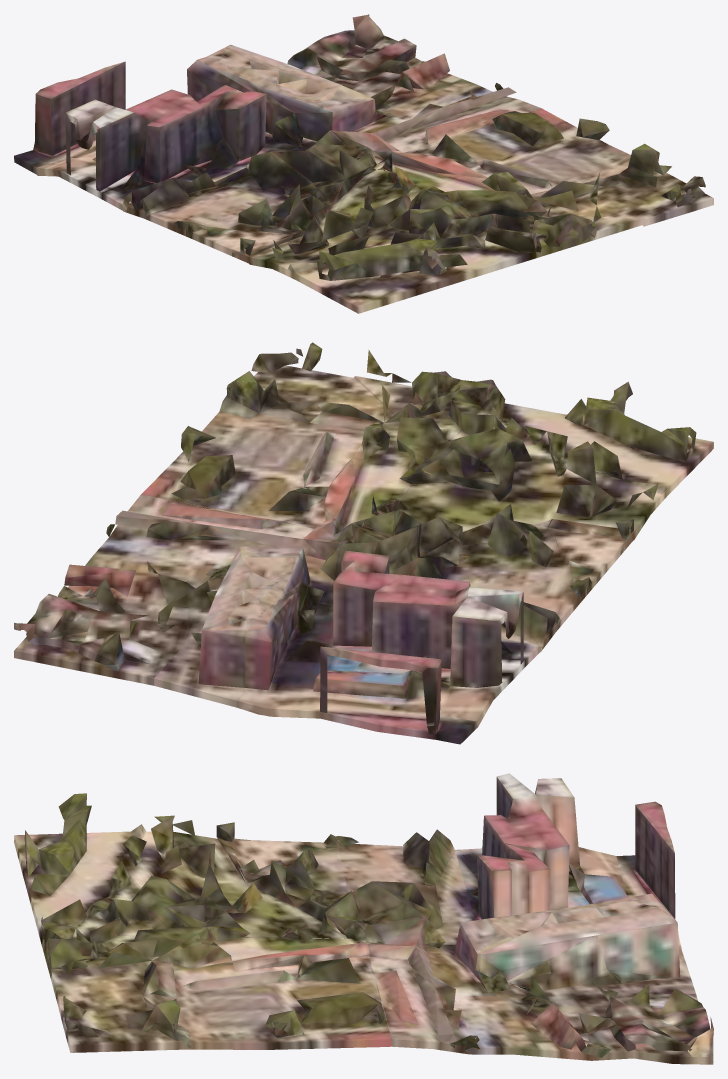
The picture shows the model from 3 angles, top to bottom: view 1: azimuth 30°, elevation 25°; view 2: azimuth 150°, elevation 25°; view 3: azimuth 270°, elevation 25°; orthographic projection. The views are drawn at different scales.
Parts seen in each view (by area): view 1: Mesh_0; view 2: Mesh_0; view 3: Mesh_0.
Boxes of the visible parts, <box> form: Mesh_0: <box>14,14,713,313</box>; Mesh_0: <box>14,342,713,744</box>; Mesh_0: <box>14,773,713,1064</box>.
Size of the model in its own units: 266 by 58.2 by 330.
Materials: 2 (2 with a texture image).
